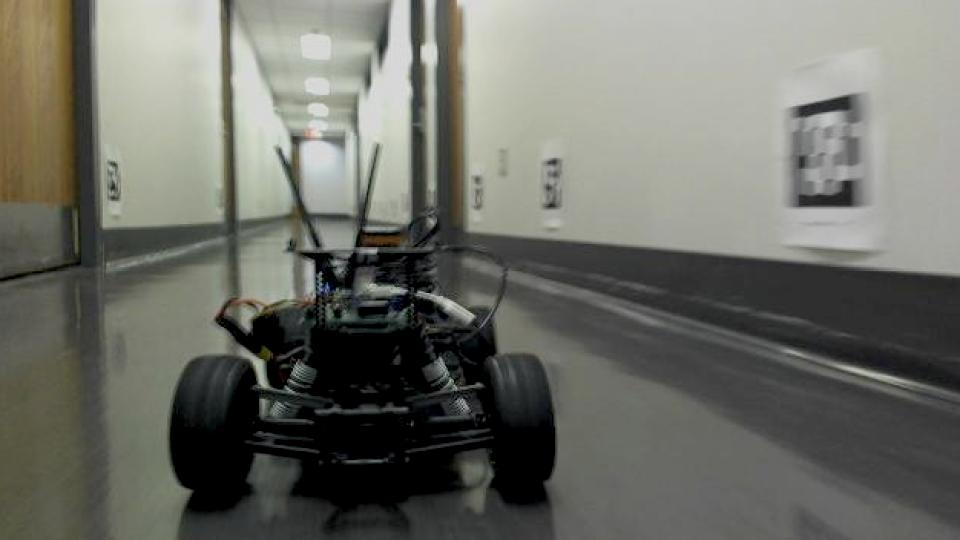car: (164, 140, 561, 502)
